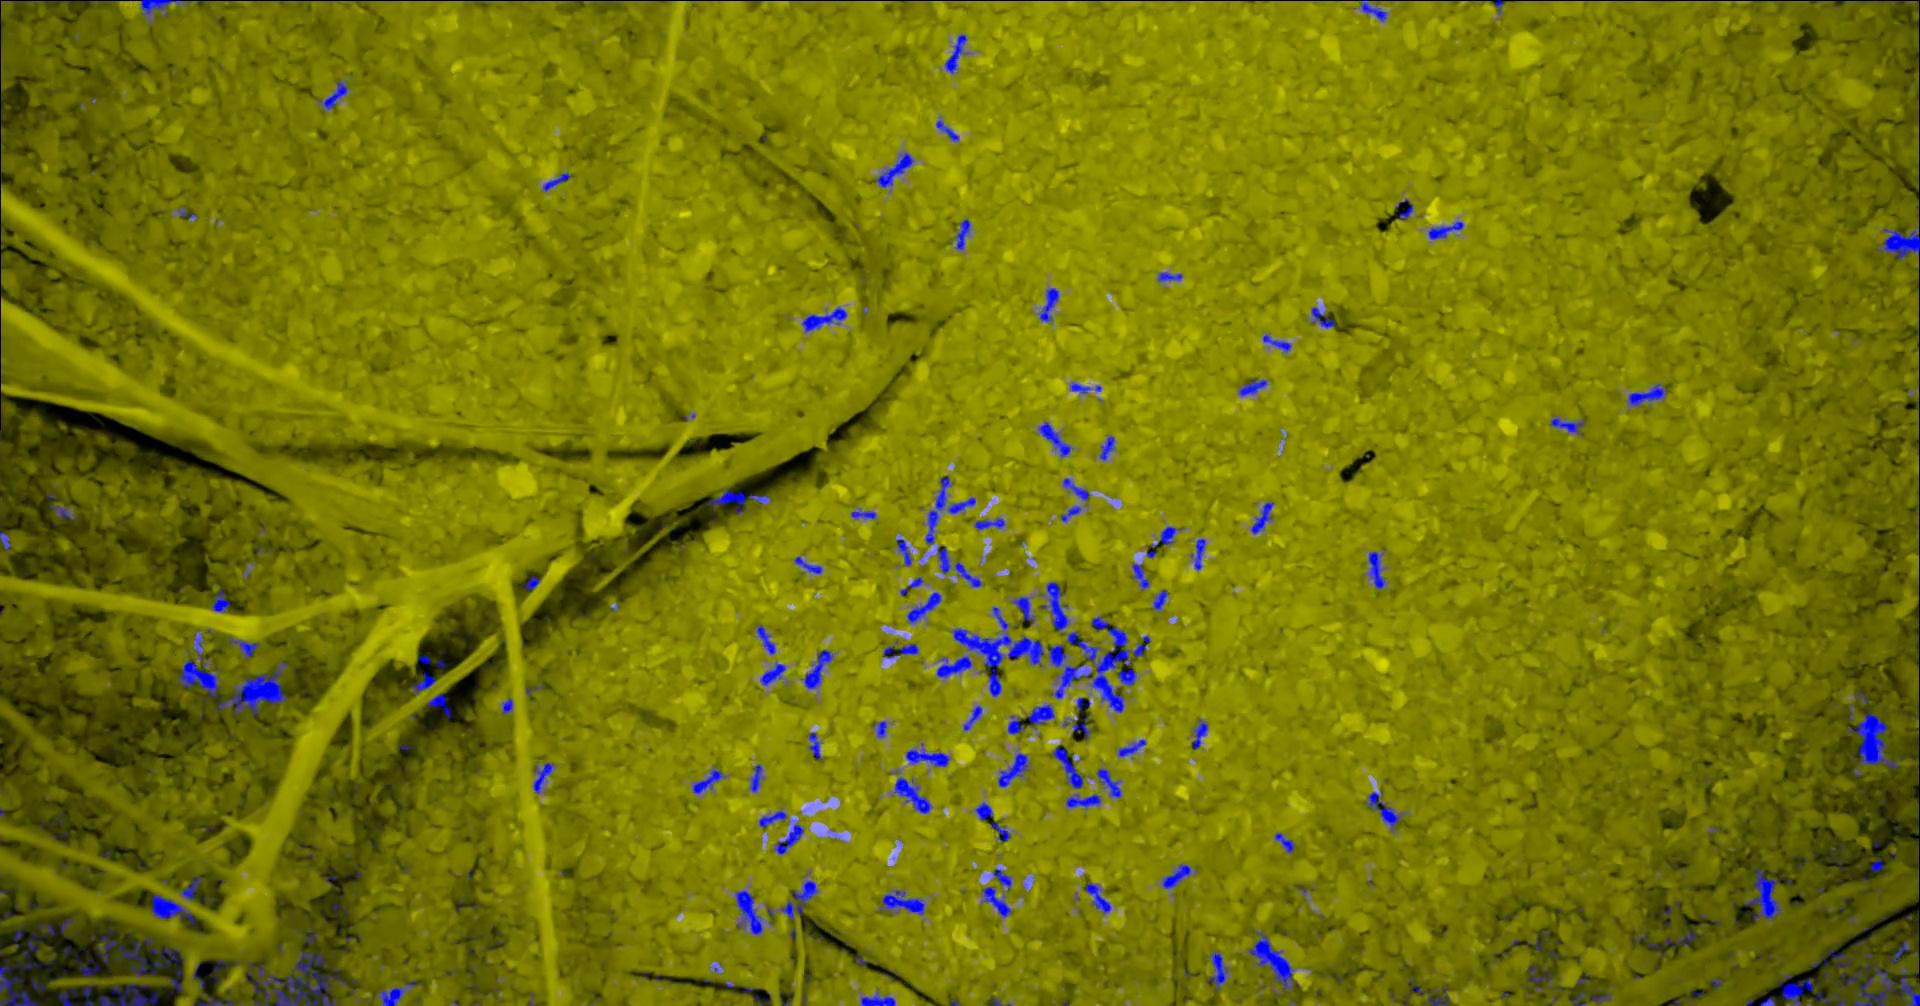ant: (927, 476, 977, 544), (179, 633, 221, 697), (1879, 201, 1920, 259), (1745, 868, 1784, 920), (891, 768, 933, 813), (938, 546, 984, 587), (193, 963, 235, 1005), (707, 489, 772, 514), (781, 880, 820, 920), (152, 893, 197, 927), (1041, 580, 1070, 633), (1365, 791, 1404, 829), (1845, 0, 1920, 19), (1039, 420, 1076, 457), (876, 152, 916, 187), (1054, 744, 1084, 788), (1779, 972, 1818, 1005), (100, 983, 159, 1005), (804, 649, 836, 688), (737, 889, 764, 934), (142, 0, 193, 24), (1148, 526, 1185, 558), (803, 306, 848, 332), (908, 591, 943, 622), (907, 742, 951, 767), (881, 889, 926, 915), (378, 979, 423, 1005), (999, 752, 1030, 788), (317, 80, 350, 111), (946, 33, 970, 72), (983, 887, 1013, 917), (776, 822, 805, 854), (693, 766, 728, 793), (1628, 384, 1667, 406), (1086, 882, 1112, 913), (1209, 951, 1230, 989), (58, 983, 97, 1005), (1412, 984, 1451, 1005), (1039, 287, 1062, 321), (1252, 500, 1275, 533), (1666, 927, 1703, 948), (1528, 964, 1556, 991), (1097, 768, 1123, 798), (1163, 862, 1192, 888), (938, 655, 973, 677), (1429, 220, 1465, 239), (230, 636, 262, 658), (1369, 551, 1387, 589), (884, 639, 919, 658), (1029, 704, 1057, 728), (1064, 715, 1092, 739), (1550, 417, 1587, 434), (1013, 596, 1037, 622), (761, 661, 787, 685), (1360, 0, 1389, 22), (951, 218, 971, 249), (757, 624, 777, 654), (535, 762, 555, 793), (428, 692, 452, 718), (1064, 478, 1091, 500), (1890, 940, 1911, 967), (39, 918, 74, 935), (413, 671, 437, 694), (1312, 306, 1337, 328), (543, 171, 571, 191), (937, 118, 960, 141), (1263, 334, 1293, 352), (759, 809, 789, 827), (964, 705, 984, 730), (1067, 793, 1103, 807), (744, 986, 771, 1005), (1192, 719, 1209, 749), (897, 539, 914, 567), (795, 556, 823, 574), (1119, 739, 1147, 757), (182, 876, 202, 901), (1192, 539, 1208, 570), (1239, 379, 1269, 395), (51, 503, 80, 520), (1133, 563, 1150, 589), (990, 821, 1012, 842), (808, 732, 824, 760), (212, 588, 231, 612), (861, 992, 897, 1005), (1276, 832, 1297, 854), (902, 575, 924, 594), (994, 868, 1013, 890), (1830, 948, 1851, 967), (80, 956, 102, 976), (212, 959, 231, 981), (750, 763, 764, 793), (1101, 434, 1116, 460), (1491, 0, 1517, 14), (977, 801, 996, 821), (1062, 506, 1083, 522), (977, 517, 1007, 528), (1070, 382, 1103, 392), (1010, 715, 1026, 734), (1154, 589, 1170, 610), (170, 967, 183, 991), (1399, 199, 1415, 218), (14, 925, 27, 948), (1571, 989, 1589, 1005), (178, 206, 198, 218), (1158, 271, 1183, 281), (872, 720, 888, 737), (32, 978, 47, 995), (524, 575, 542, 589), (852, 511, 877, 520), (305, 927, 319, 942), (503, 696, 514, 714), (1816, 991, 1834, 1002), (990, 996, 1013, 1005), (1077, 697, 1091, 711), (1, 531, 11, 550), (1592, 993, 1613, 1002), (1870, 859, 1884, 871), (5, 0, 119, 1), (1919, 475, 1920, 554)
